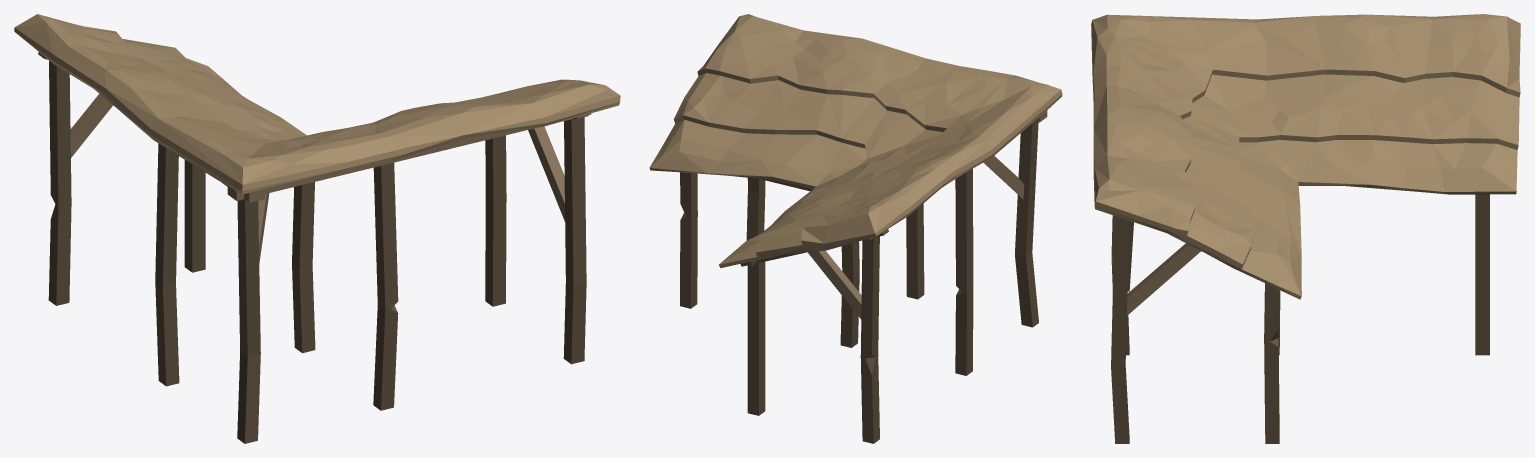
The model's file is stable_b.FBX.
3 renders of one model, left to right at view 1: azimuth 30°, elevation 25°; view 2: azimuth 150°, elevation 25°; view 3: azimuth 270°, elevation 25°, orthographic. The views are drawn at different scales.
Parts seen in each view (by area): view 1: stable_b; view 2: stable_b; view 3: stable_b.
Part boxes in pixels (x1=…): stable_b: x1=14, y1=14, x2=620, y2=443; stable_b: x1=649, y1=14, x2=1062, y2=443; stable_b: x1=1091, y1=14, x2=1520, y2=443.
Bounding box in the file's own units: 7.12 × 4.95 × 7.16.
